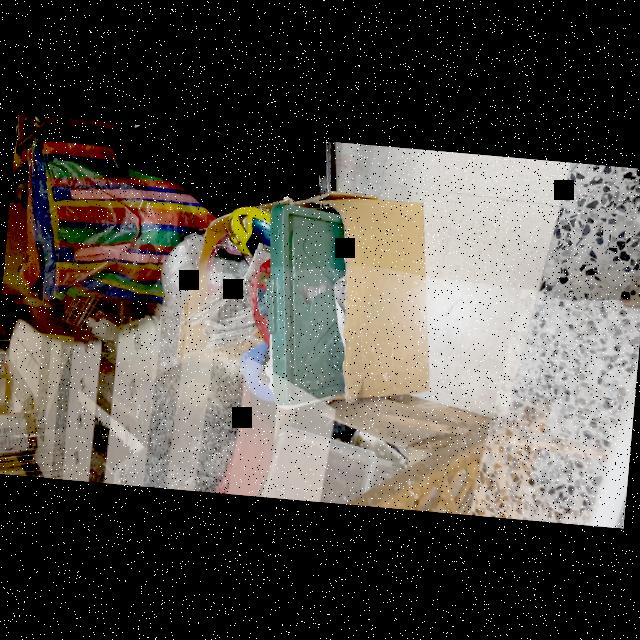cardboard_box: (292, 193, 452, 408)
